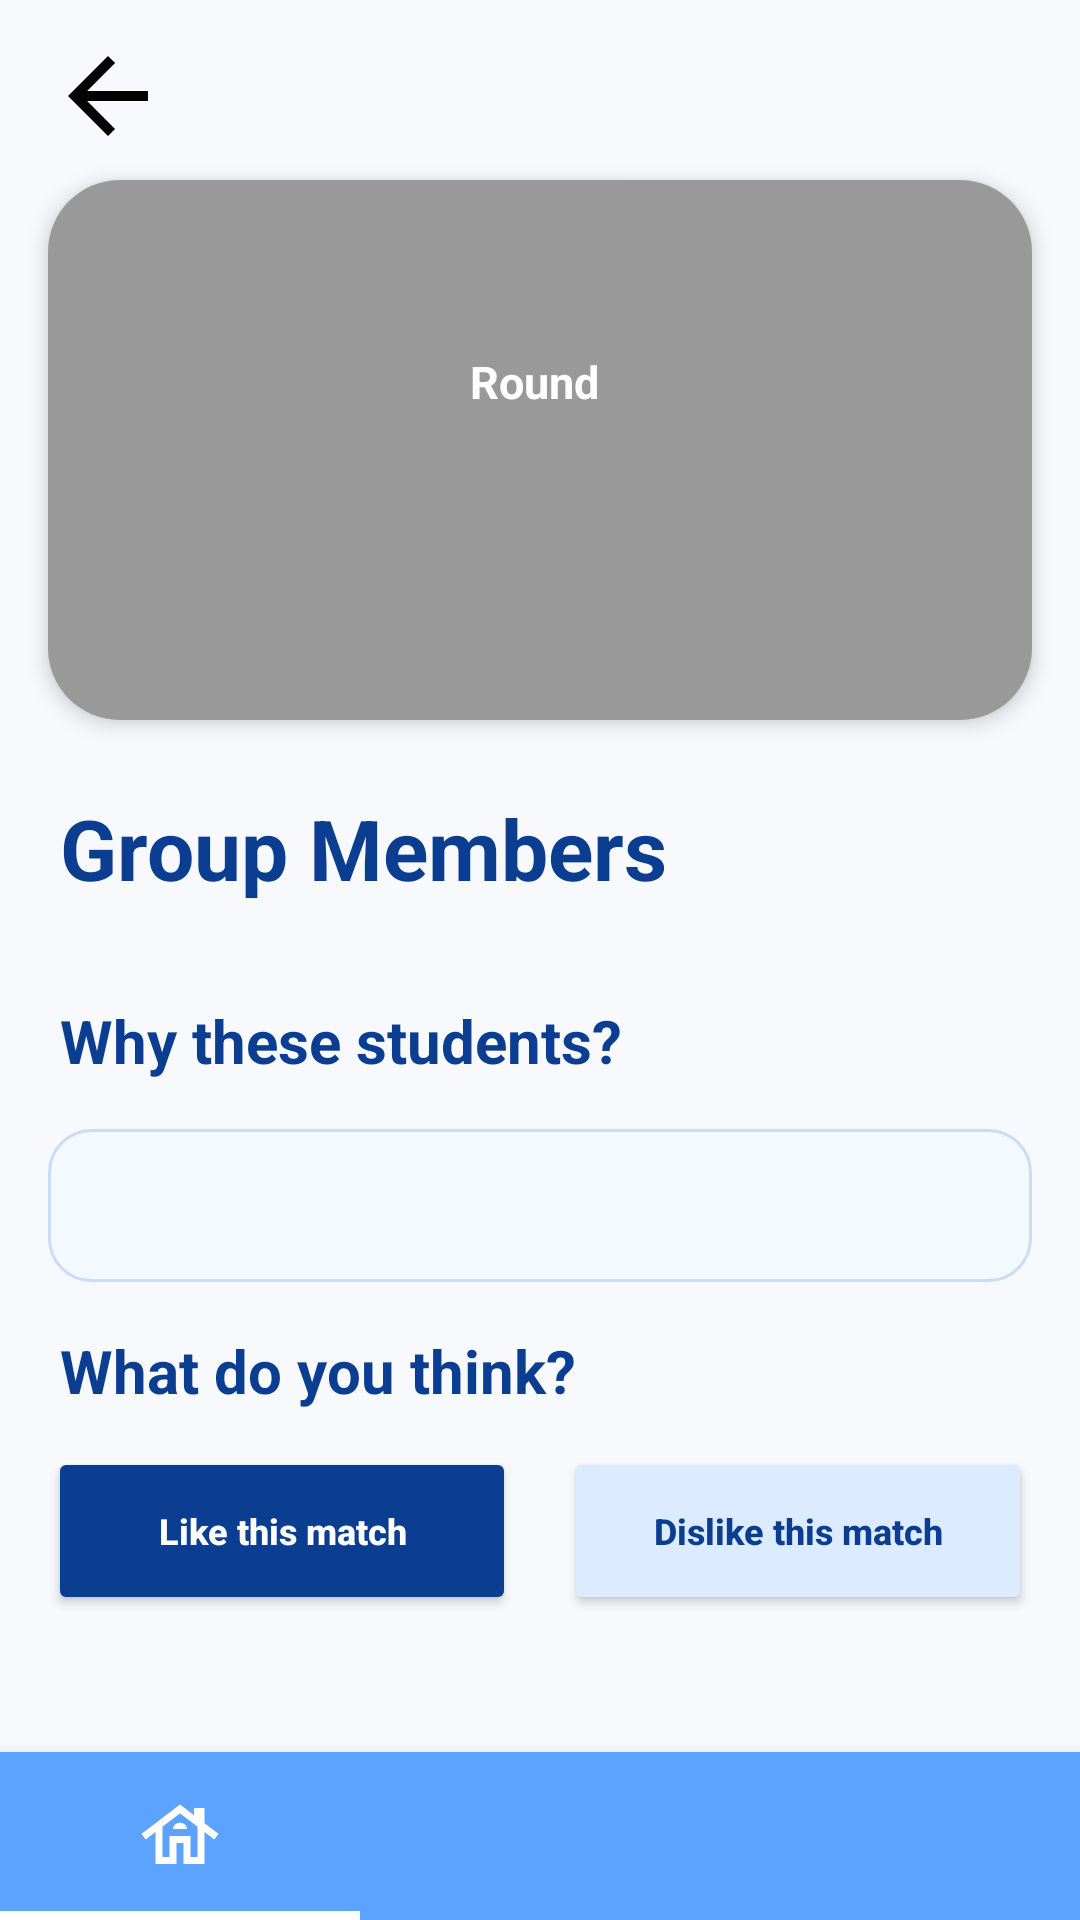

Icons on this 1080*1920 Android screen, each with its box as (x1, y1, x2, y2):
Back: (68, 56, 148, 136)
